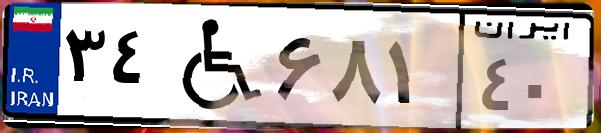0: (525, 38, 570, 115)
1: (385, 28, 445, 110)
3: (57, 26, 110, 100)
4: (475, 38, 525, 113), (110, 28, 158, 98)
6: (270, 28, 330, 110)
8: (330, 28, 385, 110)
ژ (معلولین و جانبازان): (158, 12, 270, 120)
